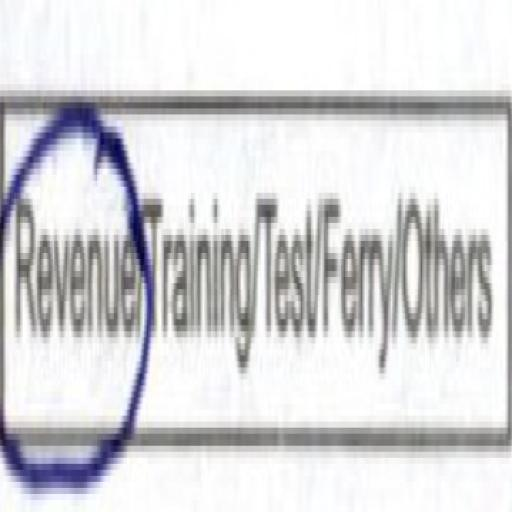check: (0, 90, 147, 512)
